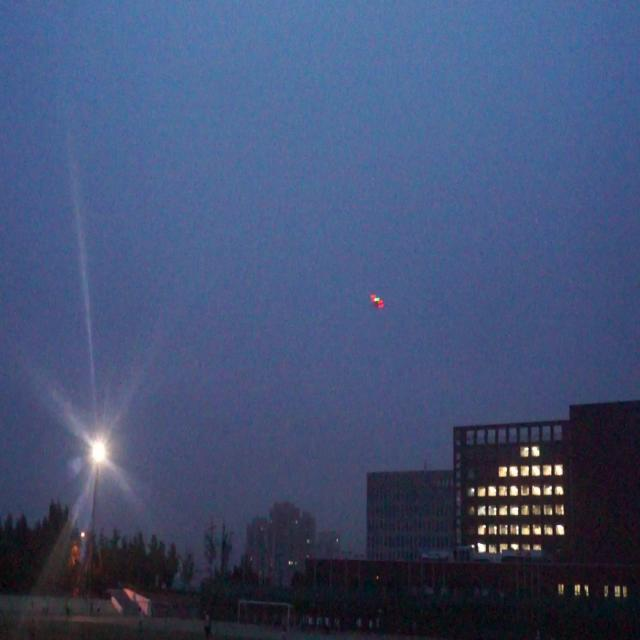UAV: (370, 293, 384, 308)
